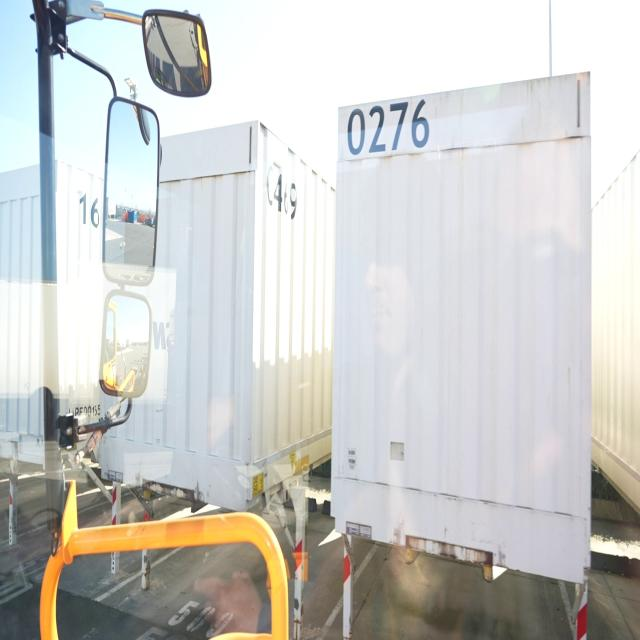Code: (344, 97, 428, 157)
